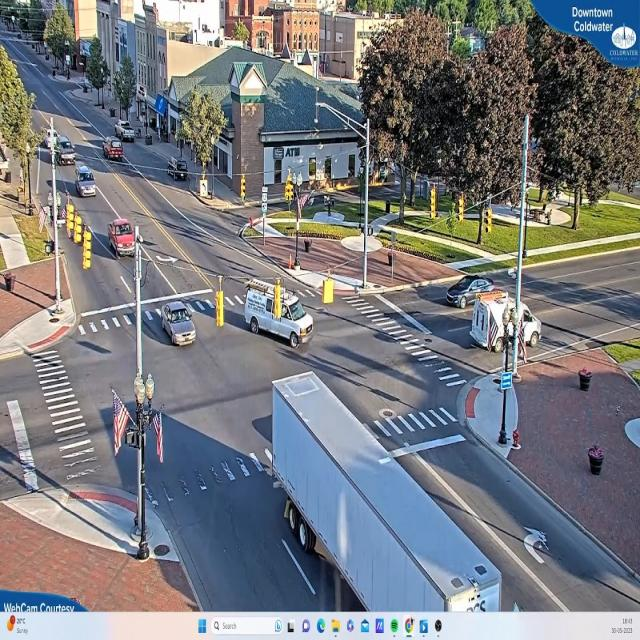car: (161, 302, 196, 350), (445, 276, 492, 307), (109, 218, 139, 257), (76, 163, 98, 194), (117, 121, 137, 145), (105, 139, 126, 161)
truck: (241, 284, 315, 346)
